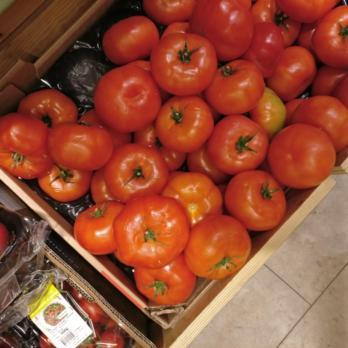Tomato: (150, 0, 348, 152), (106, 2, 348, 94), (56, 204, 276, 270), (0, 121, 270, 169), (20, 180, 280, 198)
